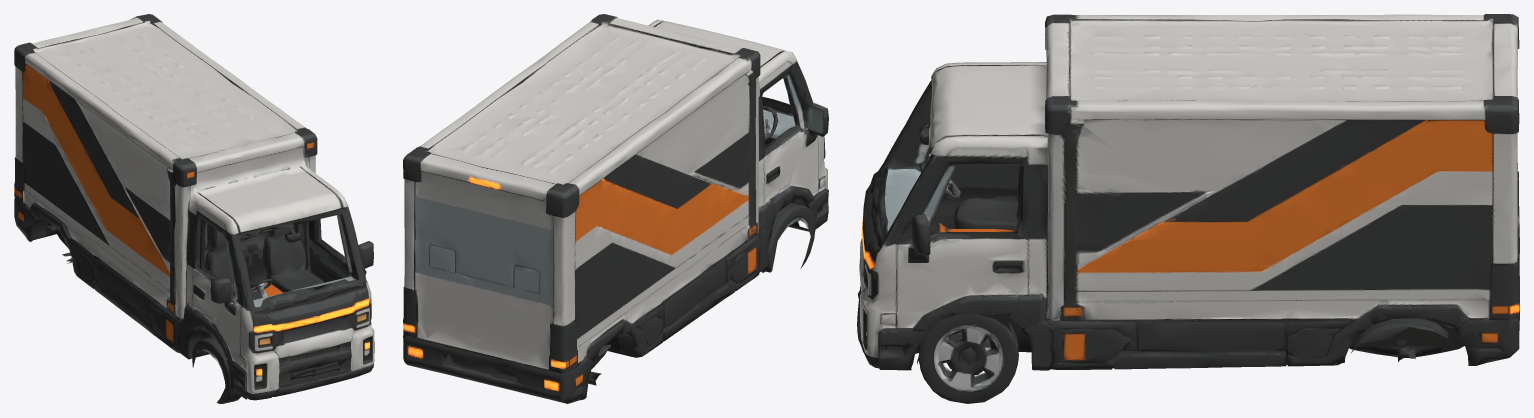
The model's file is van.glb.
3 renders of one model, left to right at view 1: azimuth 30°, elevation 25°; view 2: azimuth 150°, elevation 25°; view 3: azimuth 270°, elevation 25°, orthographic. The views are drawn at different scales.
Visible parts, largest first — view 1: body; view 2: body; view 3: body, wheel_FR.
Boxes of the visible parts, left/top/right/bottom form: body: left=14, top=14, right=374, bottom=403; body: left=403, top=14, right=828, bottom=403; body: left=857, top=14, right=1519, bottom=370; wheel_FR: left=917, top=313, right=1018, bottom=403.
Bounding box in the file's own units: 2.2 × 2.8 × 5.6.
1 material, 1 textured.
